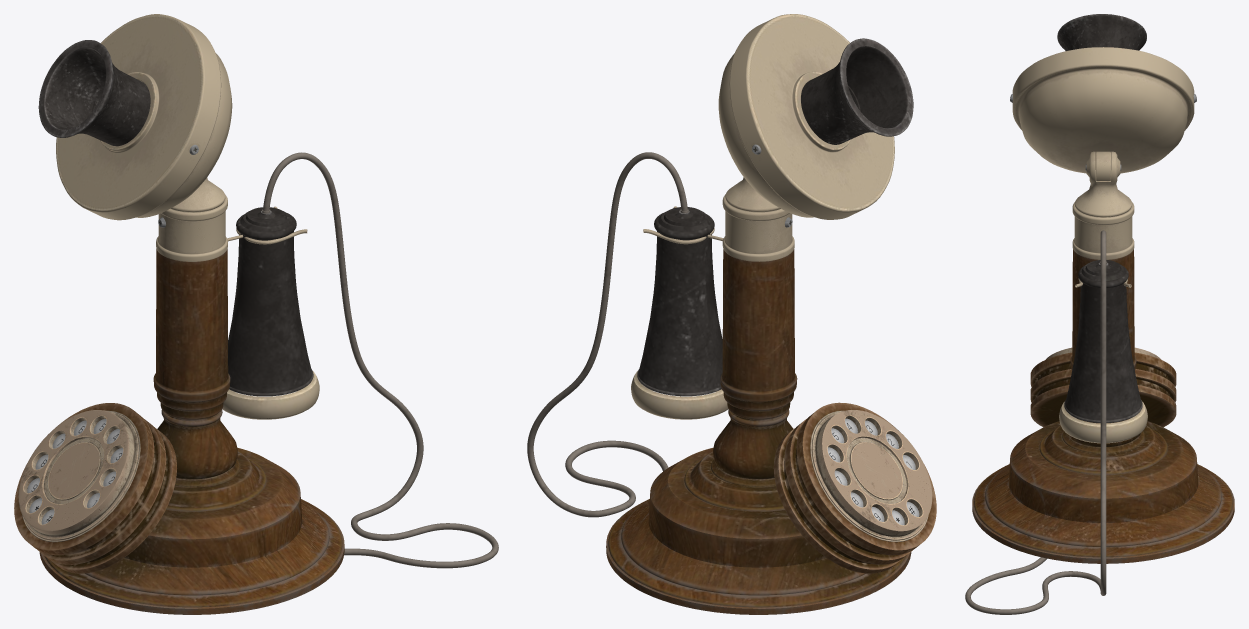
File: telephone.glb
The picture shows the model from 3 angles, left to right: view 1: azimuth 30°, elevation 25°; view 2: azimuth 150°, elevation 25°; view 3: azimuth 270°, elevation 25°; orthographic projection. The views are drawn at different scales.
Visible parts, largest first — view 1: low (×6), wire_low; view 2: low (×6), wire_low; view 3: low (×4), wire_low.
Boxes of the visible parts, x1,y1,x2,y2 form: low (×6): (14,14,344,614); wire_low: (262,152,498,568); low (×6): (606,14,936,614); wire_low: (527,152,688,517); low (×4): (972,14,1234,563); wire_low: (965,230,1106,614).
Size of the model in its own units: 10.96 by 14.08 by 7.34.
Materials: 1 (1 with a texture image).
